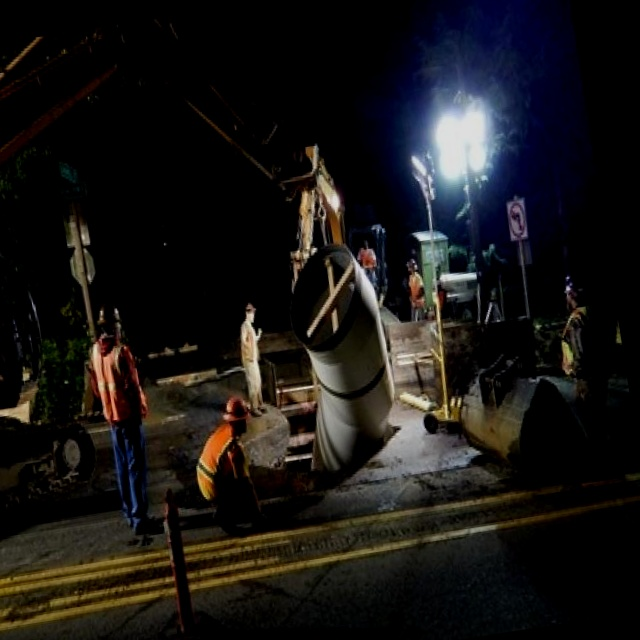Con_Chaleco: (87, 336, 144, 428), (190, 424, 249, 505)
